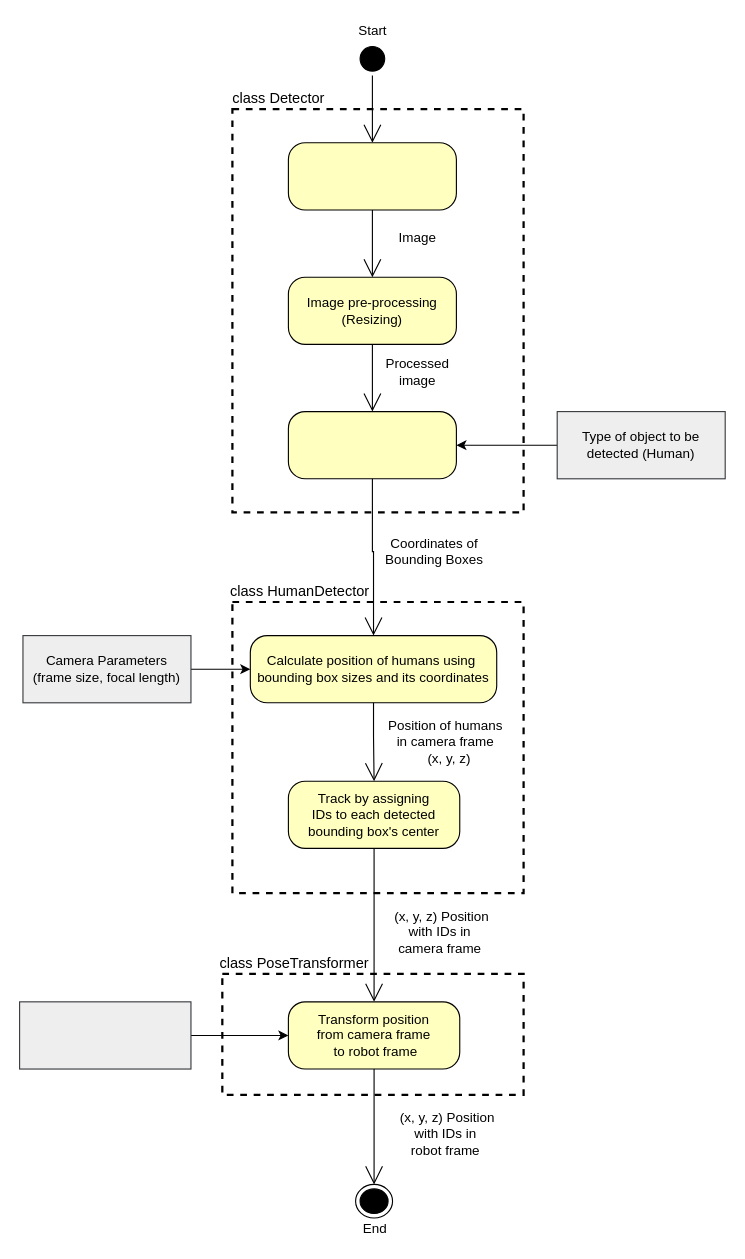
Image size: 745x1259. Some labels were removed from this diagram. The box of each missing label's shape, as (x1, y1, x2, y2) in pixels:
Get video feed from Camera: (287, 142, 456, 210)
HOG detector: (287, 410, 456, 479)
Transformation matrix from camera to robot frame: (18, 1001, 191, 1069)
